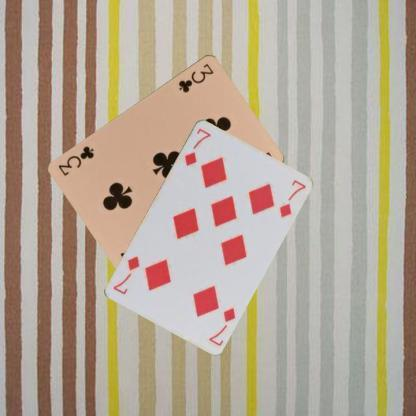3c: (176, 61, 216, 94)
7d: (206, 304, 237, 347), (182, 124, 212, 167)
